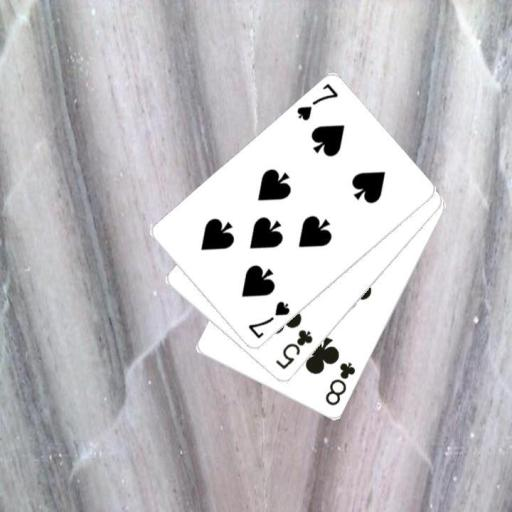5C: (272, 326, 315, 372)
7S: (245, 298, 292, 341), (293, 80, 340, 123)
8C: (322, 359, 357, 408)
